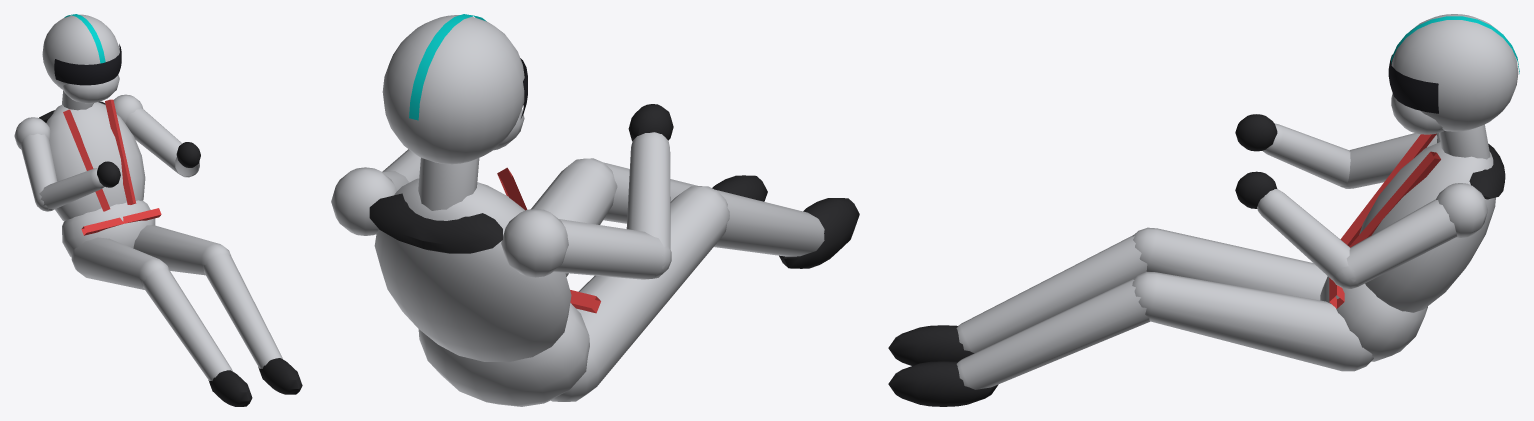
The model's file is murcetes_amd_gt3_driver.glb.
3 renders of one model, left to right at view 1: azimuth 30°, elevation 25°; view 2: azimuth 150°, elevation 25°; view 3: azimuth 270°, elevation 25°, orthographic. The views are drawn at different scales.
Visible parts, largest first — view 1: murcetes_amd_gt3_driver; view 2: murcetes_amd_gt3_driver; view 3: murcetes_amd_gt3_driver.
Part boxes in pixels (x1,y1,x2,y2): murcetes_amd_gt3_driver: (14,14,302,406); murcetes_amd_gt3_driver: (331,14,859,406); murcetes_amd_gt3_driver: (888,14,1519,406).
Bounding box in the file's own units: 0.647 × 0.957 × 1.48.
